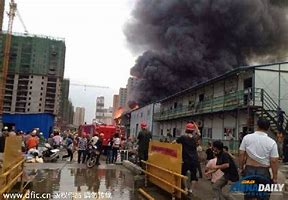smoke: (124, 1, 288, 93)
